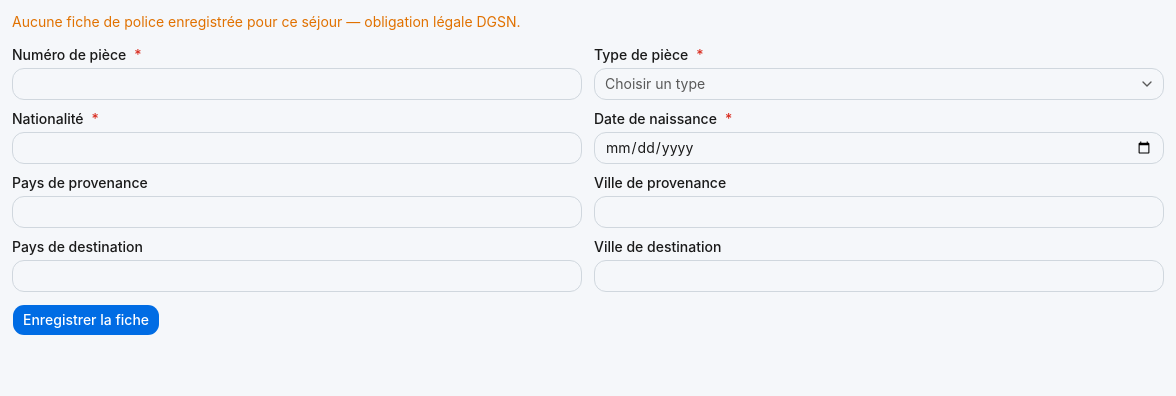
Test case: PoliceRecordForm — erreurs de champ homogènes (CH-032) › affiche une erreur par champ obligatoire manquant à la soumission, sans appeler l’API
Check: the field labelled "Numéro de pièce *" is shown, box [12,68,582,100]
What coordinates should you click on to do the following:
click the button "Enregistrer la fiche"
I would click on:
 (86, 320)
Its box is [12,304,160,336].
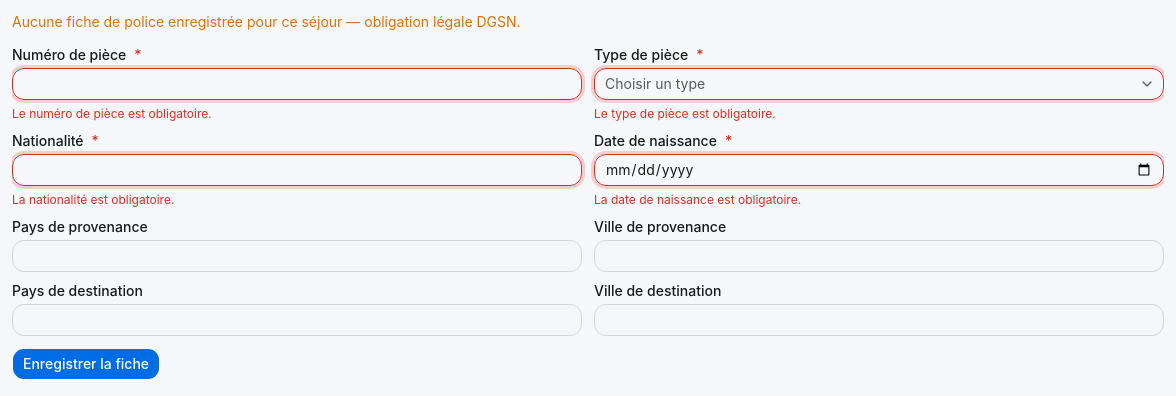
Check: the text "Le numéro de pièce est obligatoire." is shown, box [12,106,212,121]
Check: the text "La nationalité est obligatoire." is shown, box [12,192,174,207]
Check: the text "La date de naissance est obligatoire." is shown, box [594,192,801,207]
